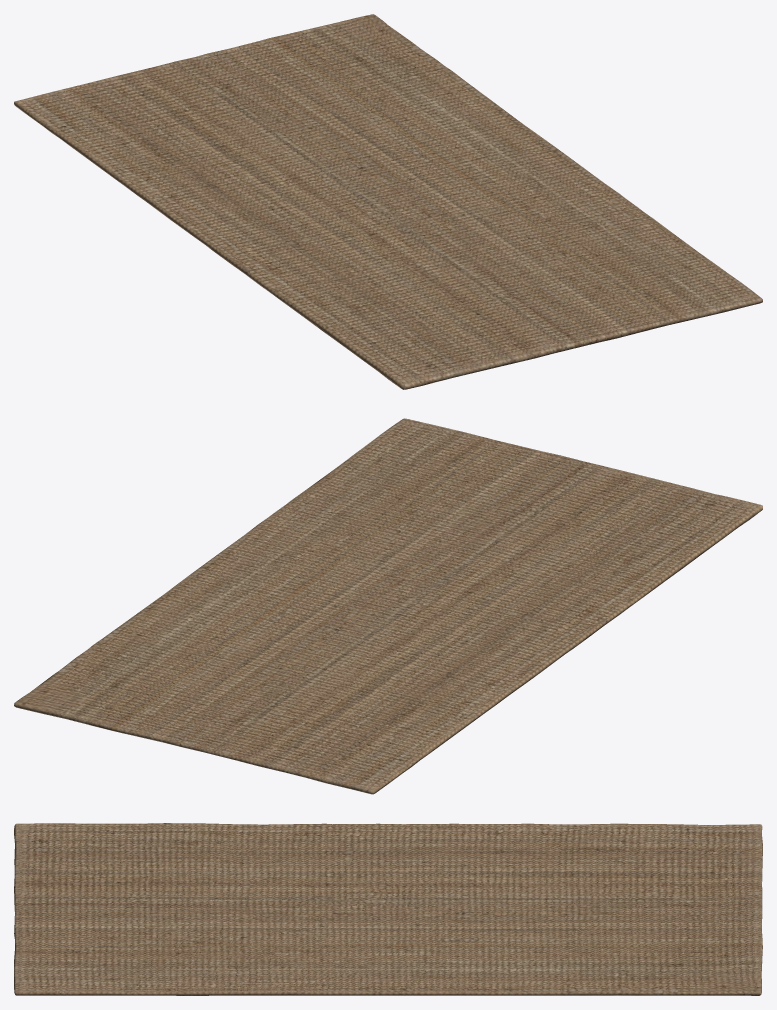
The model's file is lohals_dywan_tkany_na_pasko_20307481.glb.
3 views of the same model, one above another, from view 1: azimuth 30°, elevation 25°; view 2: azimuth 150°, elevation 25°; view 3: azimuth 270°, elevation 25° (orthographic). The views are drawn at different scales.
Parts seen in each view (by area): view 1: lohals_dywan_tkany_na_pasko_20307481; view 2: lohals_dywan_tkany_na_pasko_20307481; view 3: lohals_dywan_tkany_na_pasko_20307481.
Part boxes in pixels (box(x1,y1,x2,y2)): lohals_dywan_tkany_na_pasko_20307481: box(14, 14, 762, 389); lohals_dywan_tkany_na_pasko_20307481: box(14, 418, 762, 794); lohals_dywan_tkany_na_pasko_20307481: box(14, 823, 762, 995).
Size of the model in its own units: 0.8012 by 0.0129 by 1.5.
Materials: 1 (1 with a texture image).
